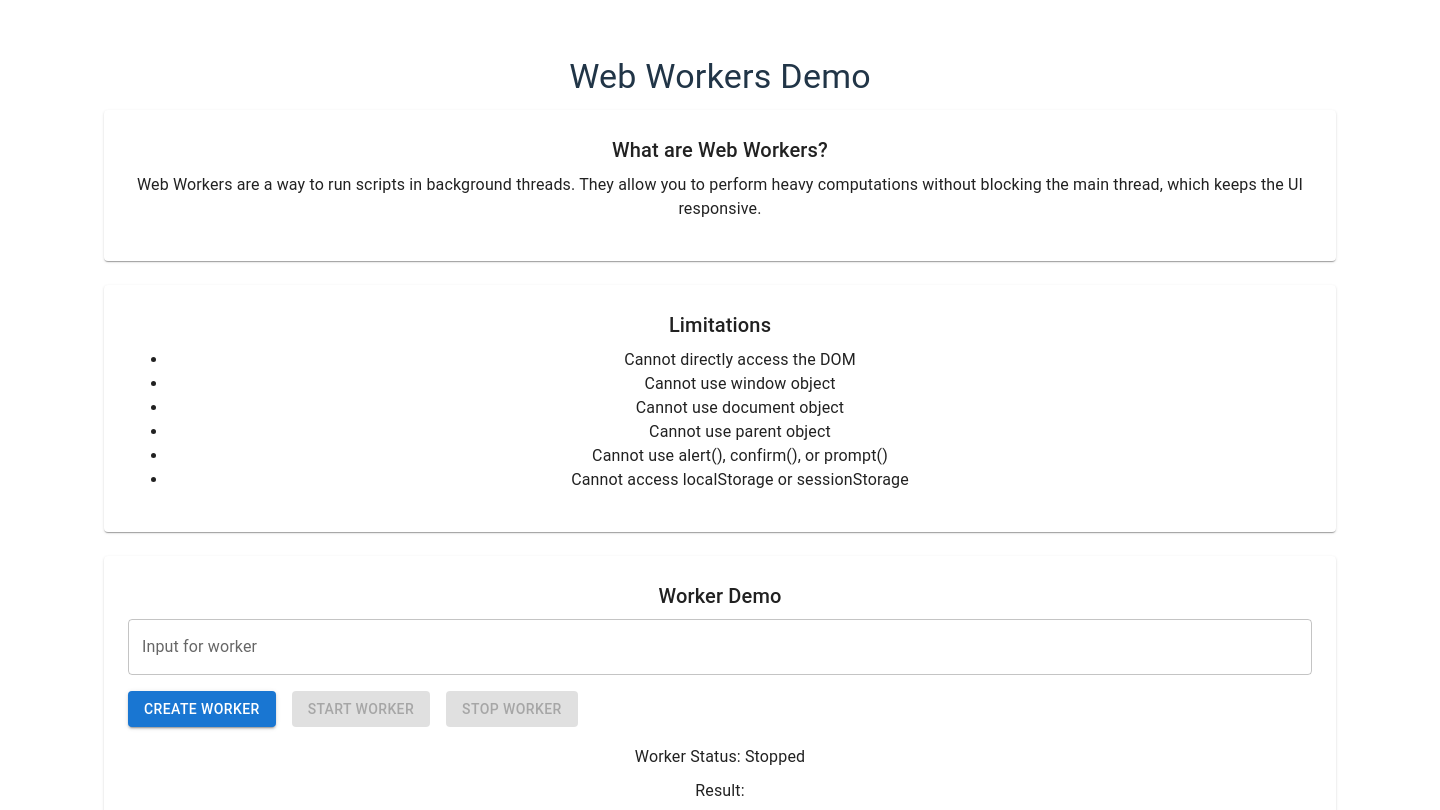
Test: WebWorkersPage › displays worker result after execution
The image size is (1440, 810).
Note: Create worker
Click the button "Create Worker" at point(202, 709), box [128,691,276,727]
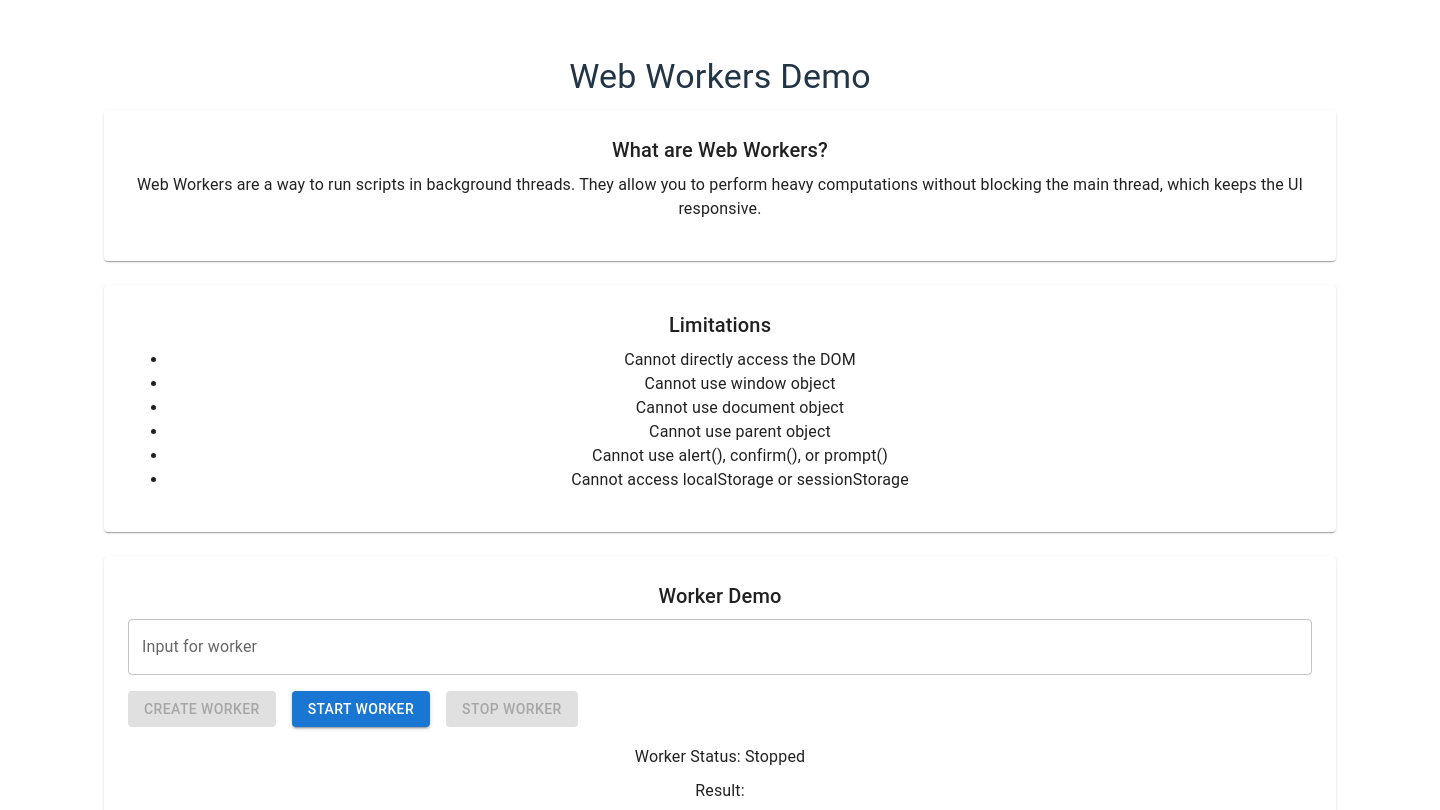
Note: Start worker
Click the button "Start Worker" at point(361, 709), box [292,691,430,727]
Wait 100 ms
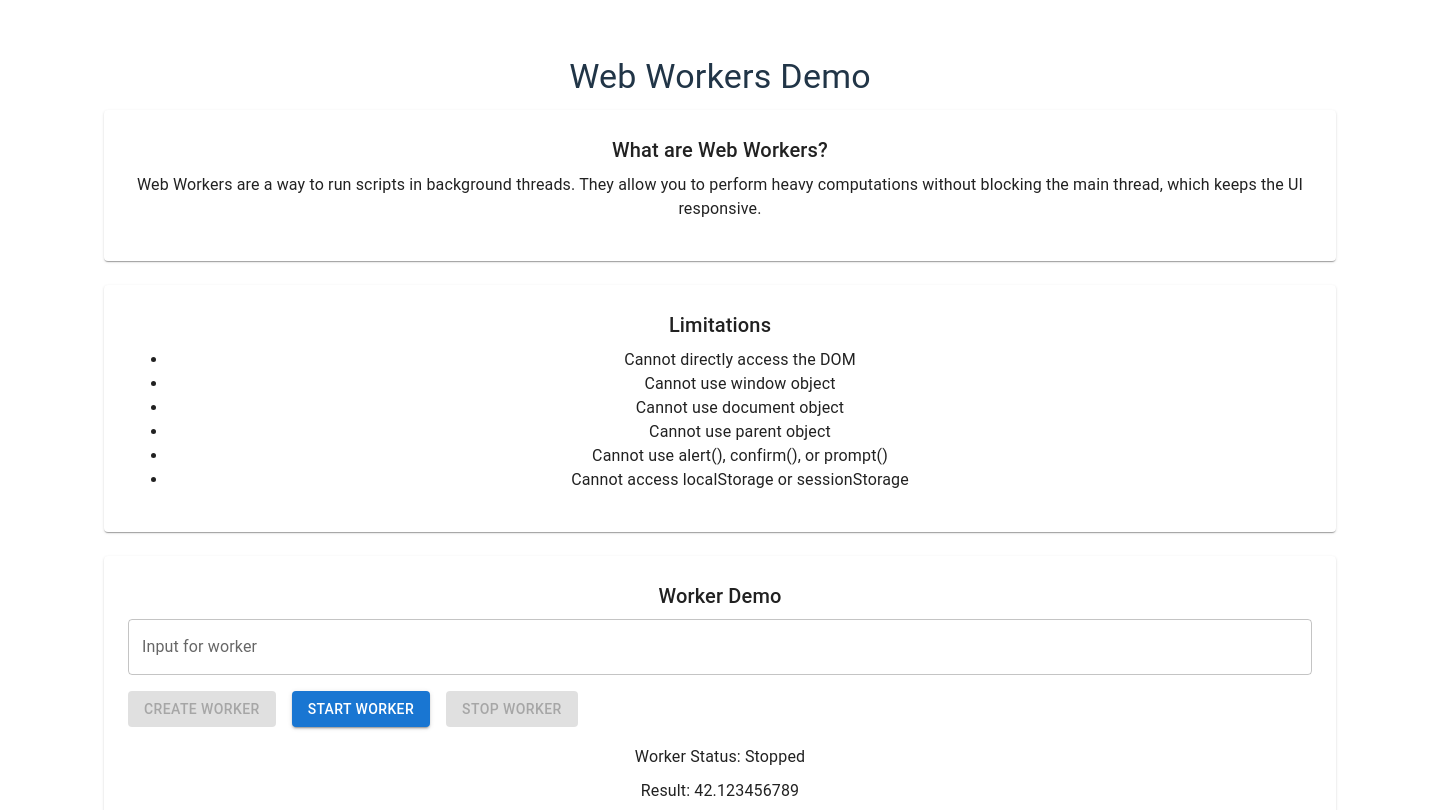
Expected: the heading "Result: 42.123456789" is shown, [641,781,799,800]
